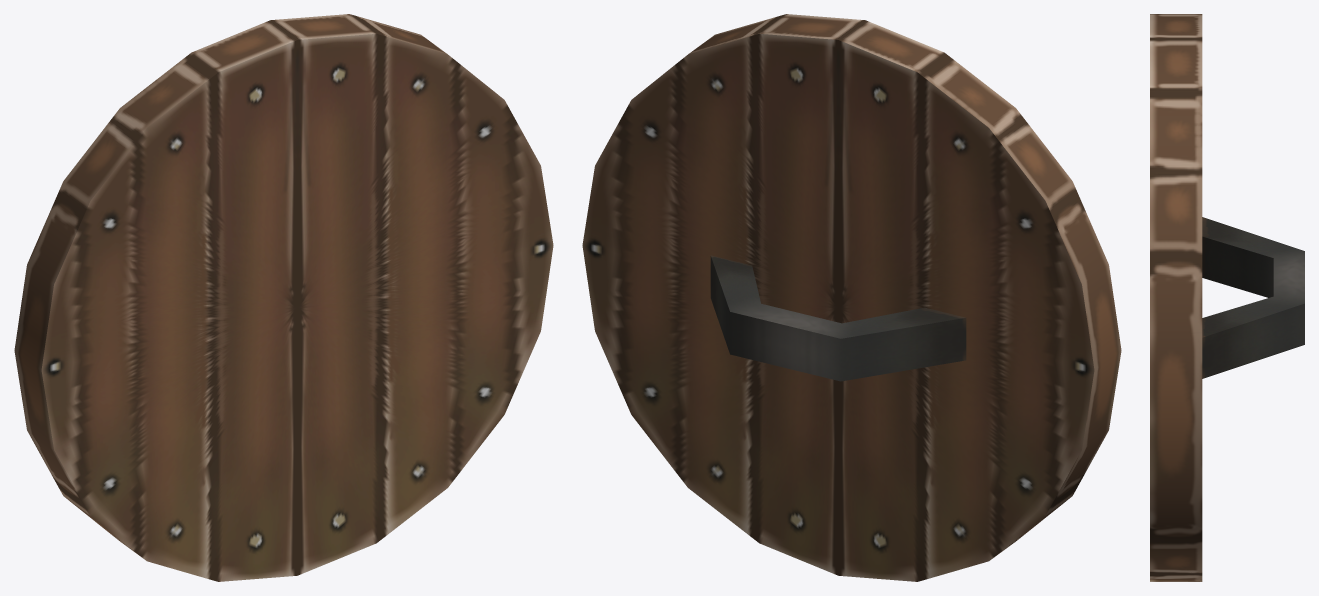
The model's file is Wood_Shield.fbx.
3 renders of one model, left to right at view 1: azimuth 30°, elevation 25°; view 2: azimuth 150°, elevation 25°; view 3: azimuth 270°, elevation 25°, orthographic. The views are drawn at different scales.
Parts seen in each view (by area): view 1: wood_shield; view 2: wood_shield; view 3: wood_shield.
Part boxes in pixels (x1,y1,x2,y2): wood_shield: [14, 14, 553, 581]; wood_shield: [582, 14, 1121, 581]; wood_shield: [1150, 14, 1304, 581].
Size of the model in its own units: 27.87 by 27.87 by 7.55.
